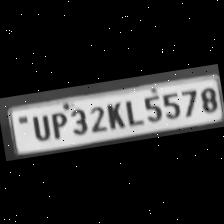2: (85, 101, 106, 132)
3: (66, 104, 88, 136)
5: (138, 90, 164, 124), (158, 88, 182, 120)
7: (177, 86, 200, 118)
8: (195, 83, 220, 115)
K: (102, 98, 126, 132)
L: (120, 95, 142, 127)
P: (47, 108, 69, 138)
U: (26, 110, 52, 141)
